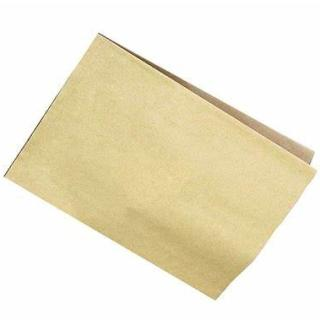Anorganik: (8, 39, 314, 301)
